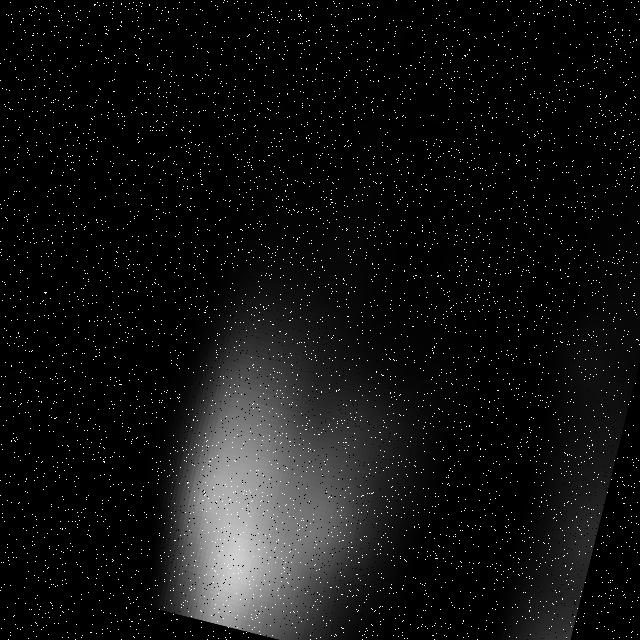person: (140, 203, 482, 640), (460, 195, 640, 640)
